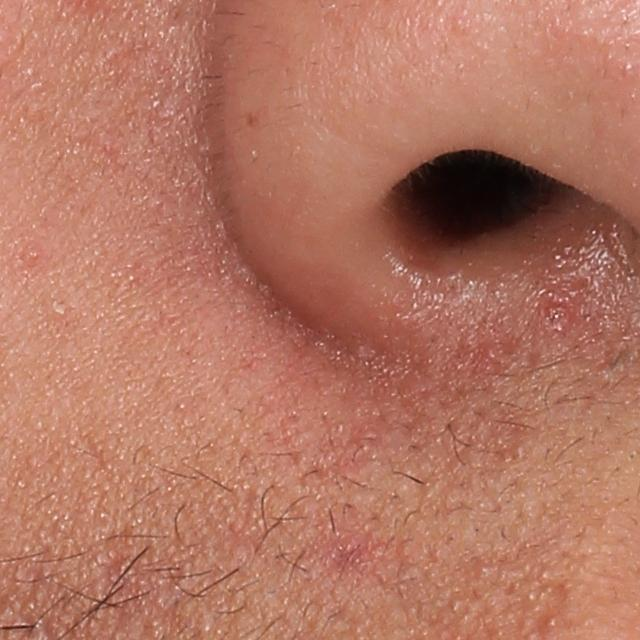nevus: (245, 109, 258, 129)
